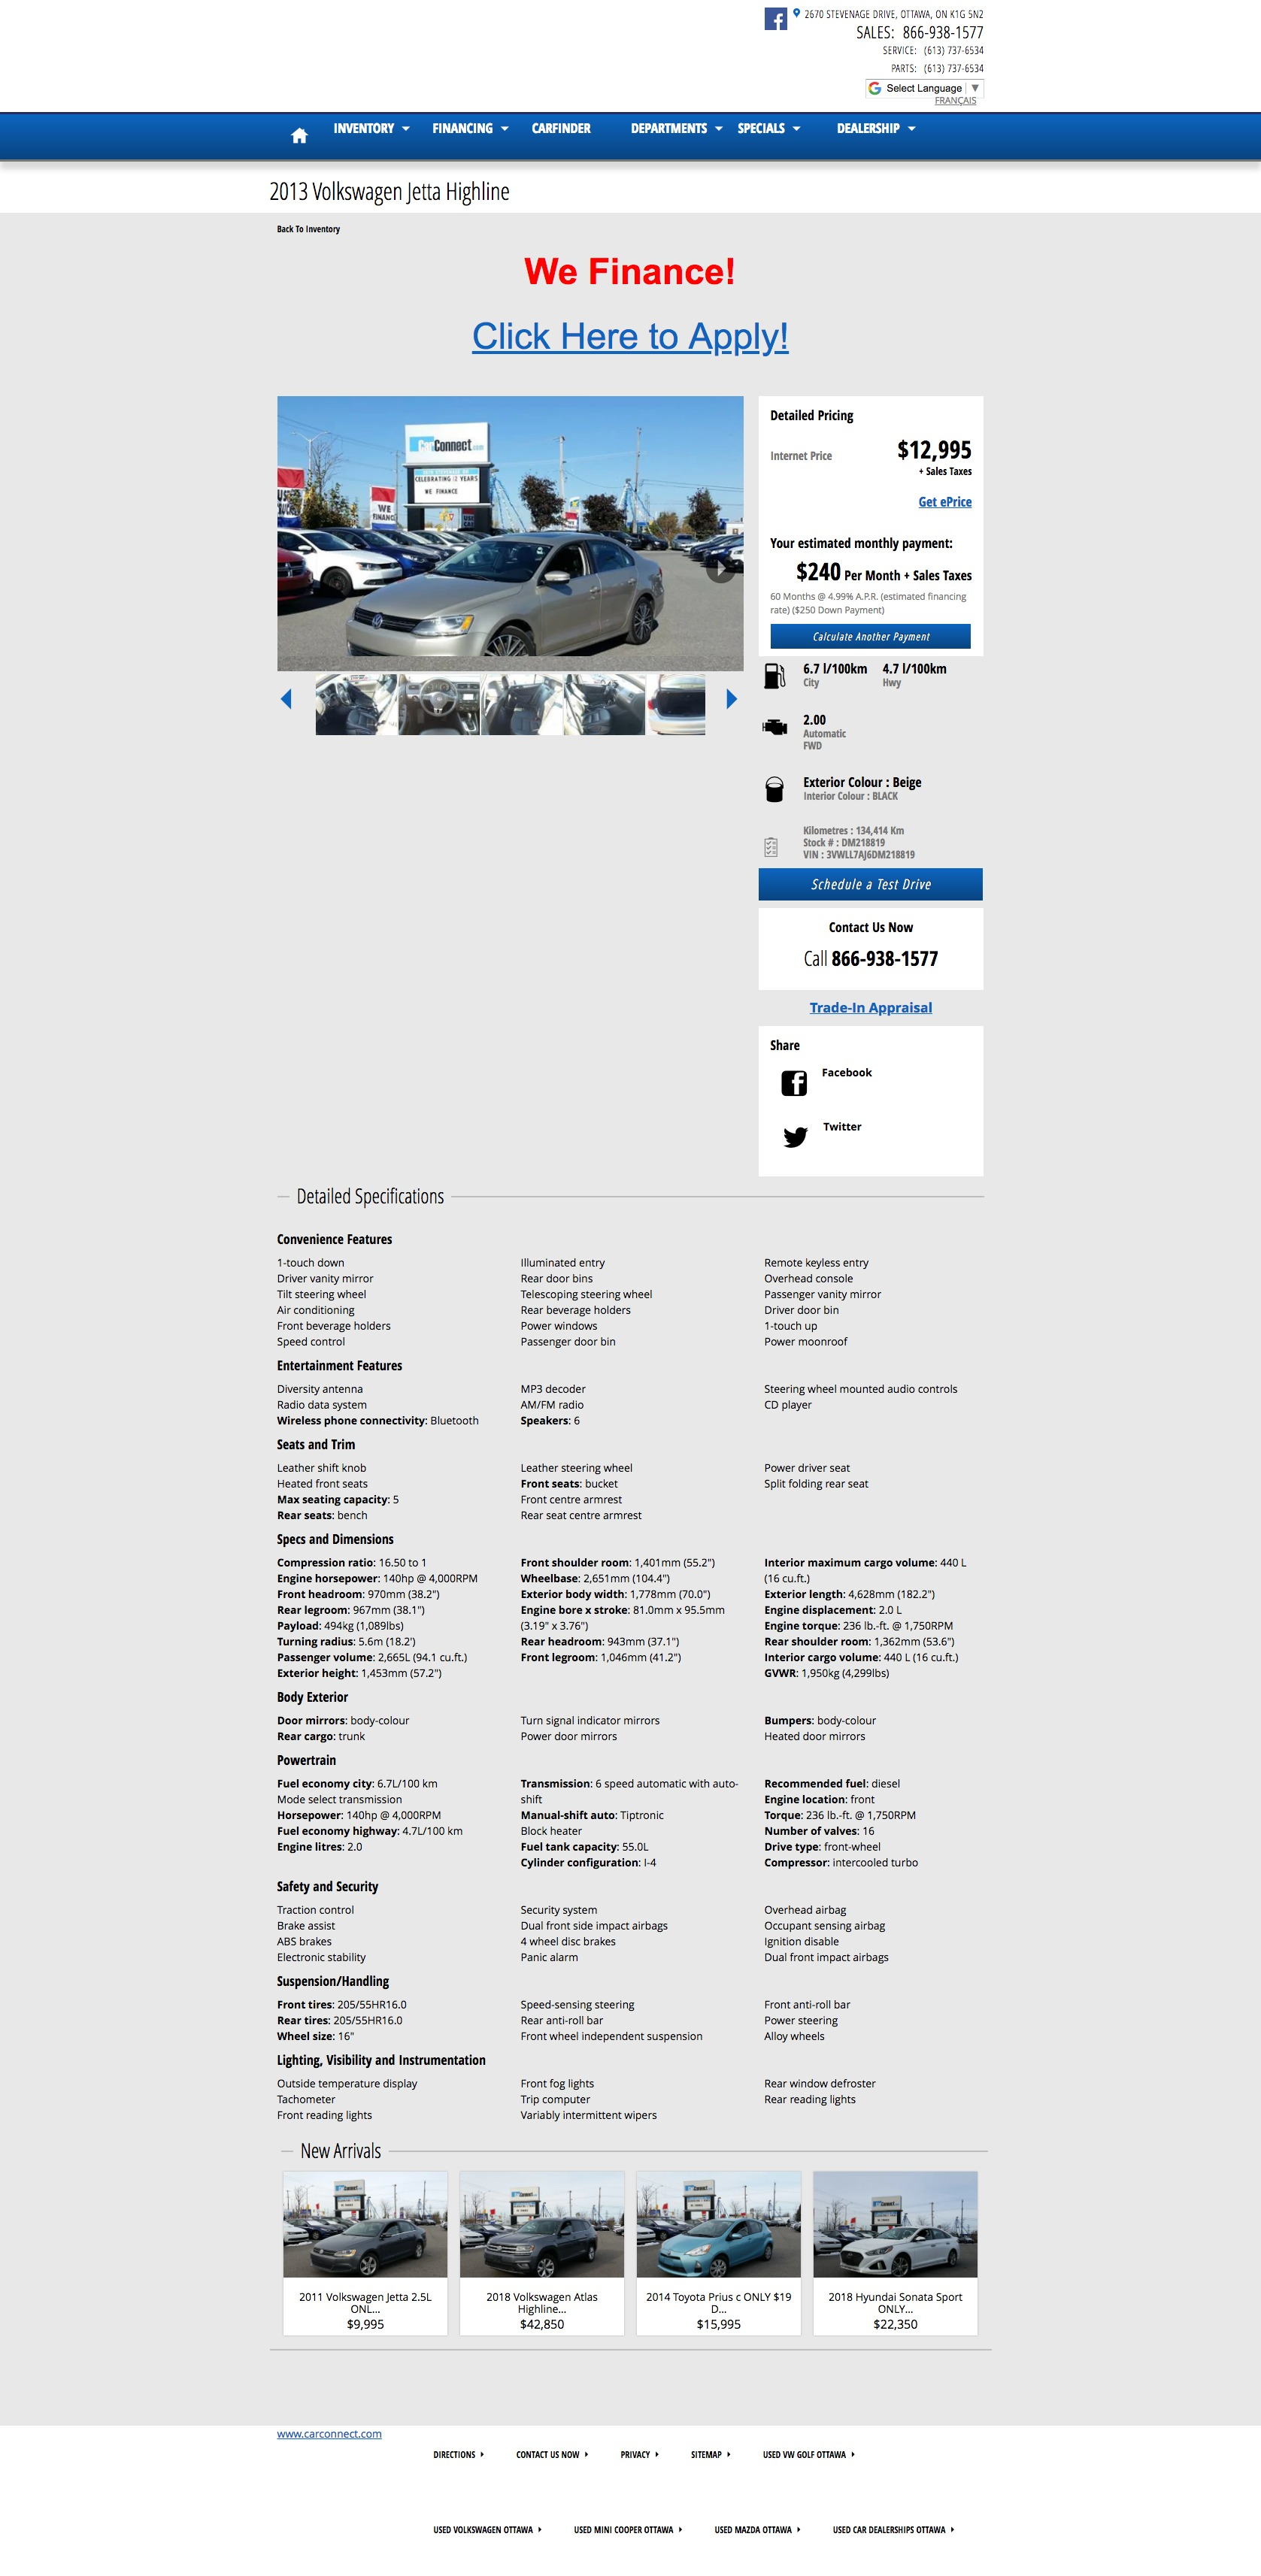car: (723, 685, 741, 711)
